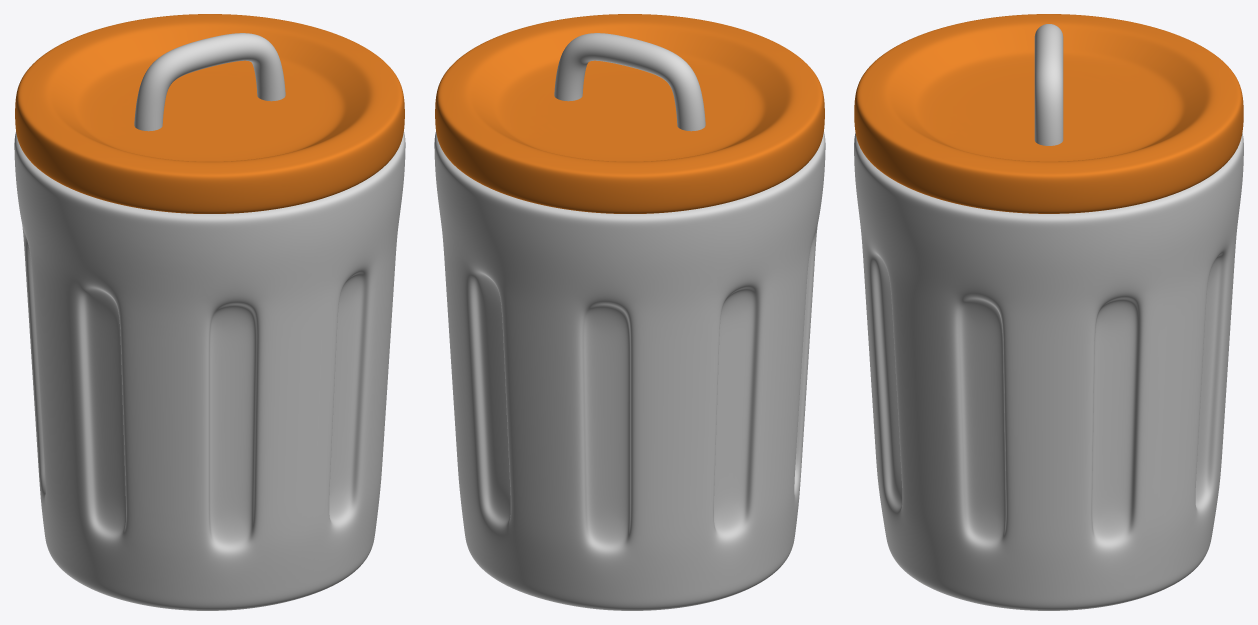
Rendered from trash-can.glb.
The picture shows the model from 3 angles, left to right: view 1: azimuth 30°, elevation 25°; view 2: azimuth 150°, elevation 25°; view 3: azimuth 270°, elevation 25°; orthographic projection.
Visible parts, largest first — view 1: Ttash Bin; view 2: Ttash Bin; view 3: Ttash Bin.
Boxes of the visible parts, x1,y1,x2,y2 form: Ttash Bin: (14, 14, 405, 610); Ttash Bin: (434, 14, 825, 610); Ttash Bin: (854, 14, 1243, 610).
Size of the model in its own units: 1.32 by 1.9 by 1.32.
